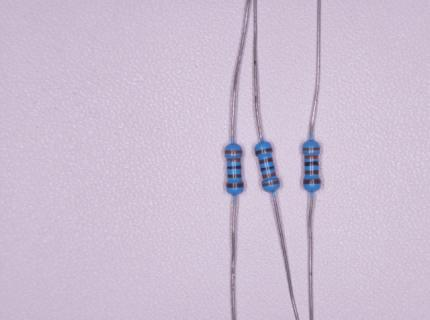Black band: (260, 166, 275, 171), (227, 165, 242, 170), (305, 161, 319, 166)
Brown band: (255, 147, 273, 155), (259, 157, 273, 165), (226, 183, 244, 188), (303, 179, 321, 184), (227, 174, 242, 179), (305, 170, 319, 175)
Orange band: (262, 180, 280, 188), (262, 172, 277, 179), (302, 147, 321, 151), (225, 150, 243, 154), (227, 158, 241, 163), (304, 155, 319, 159)
